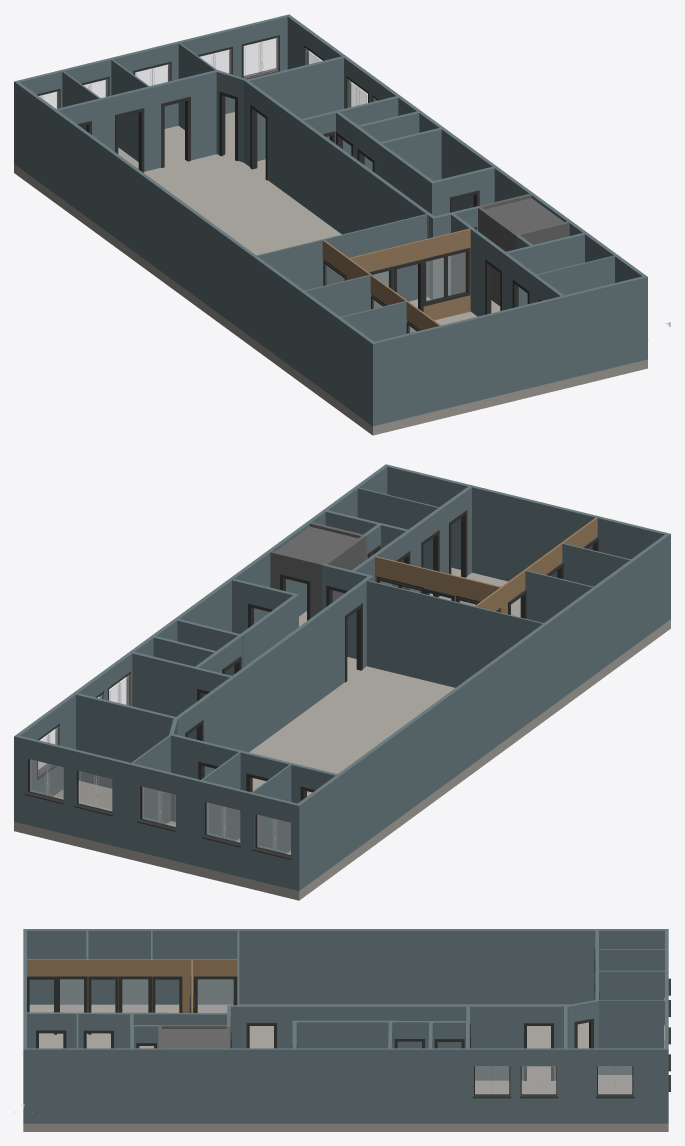
Rendered from Floor4.gltf.
3 renders of one model, top to bottom at view 1: azimuth 30°, elevation 25°; view 2: azimuth 150°, elevation 25°; view 3: azimuth 270°, elevation 25°, orthographic. The views are drawn at different scales.
Visible parts, largest first — view 1: Wall, Wall.025, Slab, Wall.003, Wall.011, Wall.001, Wall.002, Wall.013, Wall.007, Wall.009, Wall.023, Wall.015 (+16 smaller); view 2: Wall, Slab, Wall.025, Wall.003, Wall.002, Wall.011, Wall.013, Wall.026, Wall.001, Wall.007, Wall.009, Wall.023 (+11 smaller); view 3: Wall, Slab, Wall.025, Wall.001, Wall.005, Wall.011, Wall.013, Wall.015, Wall.006, Slab.001, Window Panel.023, Window Panel.021 (+19 smaller).
Part boxes in pixels (left/top/right/bottom): Wall: left=14, top=14, right=647, bottom=426; Wall.025: left=56, top=70, right=430, bottom=296; Slab: left=14, top=112, right=647, bottom=435; Wall.003: left=256, top=214, right=427, bottom=308; Wall.011: left=347, top=228, right=470, bottom=330; Wall.001: left=451, top=213, right=565, bottom=316; Wall.002: left=246, top=56, right=344, bottom=161; Wall.013: left=379, top=143, right=495, bottom=216; Wall.007: left=356, top=111, right=441, bottom=180; Wall.009: left=478, top=193, right=570, bottom=305; Wall.023: left=536, top=255, right=616, bottom=295; Wall.015: left=111, top=59, right=151, bottom=170; Wall: left=14, top=464, right=670, bottom=890; Slab: left=14, top=567, right=670, bottom=900; Wall.025: left=169, top=579, right=367, bottom=821; Wall.003: left=366, top=580, right=544, bottom=687; Wall.002: left=75, top=693, right=176, bottom=788; Wall.011: left=375, top=517, right=597, bottom=614; Wall.013: left=232, top=579, right=298, bottom=666; Wall.026: left=132, top=651, right=219, bottom=738; Wall.001: left=351, top=485, right=473, bottom=592; Wall.007: left=152, top=619, right=243, bottom=696; Wall.009: left=270, top=522, right=366, bottom=617; Wall.023: left=357, top=487, right=438, bottom=569; Wall: left=23, top=929, right=668, bottom=1123; Slab: left=23, top=1004, right=668, bottom=1131; Wall.025: left=236, top=930, right=598, bottom=1080; Wall.001: left=23, top=1012, right=227, bottom=1048; Wall.005: left=599, top=1000, right=664, bottom=1074; Wall.011: left=27, top=959, right=192, bottom=1033; Wall.013: left=292, top=1020, right=388, bottom=1048; Wall.015: left=599, top=970, right=664, bottom=1000; Wall.006: left=595, top=949, right=664, bottom=970; Slab.001: left=162, top=1029, right=226, bottom=1048; Window Panel.023: left=197, top=979, right=234, bottom=1012; Window Panel.021: left=121, top=979, right=149, bottom=1012.
Size of the model in its own units: 10.21 by 3 by 21.73.
